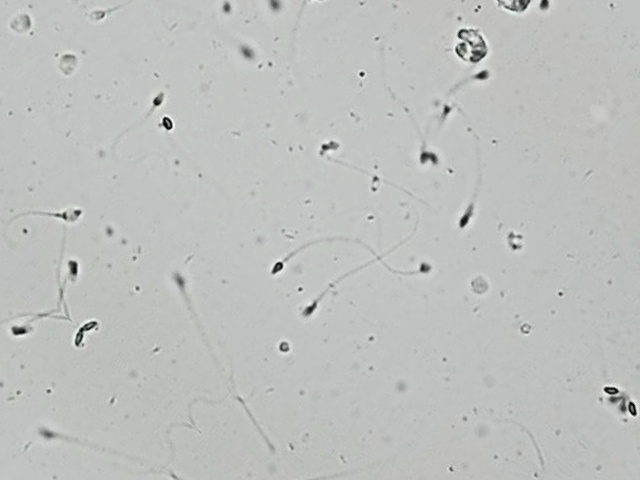sperm: (234, 125, 364, 265), (322, 30, 456, 164), (270, 0, 402, 102), (254, 68, 374, 176), (212, 149, 322, 261), (90, 218, 200, 322), (66, 45, 140, 125), (0, 128, 42, 222), (350, 210, 406, 264), (243, 429, 315, 463), (420, 33, 468, 83), (236, 0, 302, 26), (47, 0, 123, 20)
